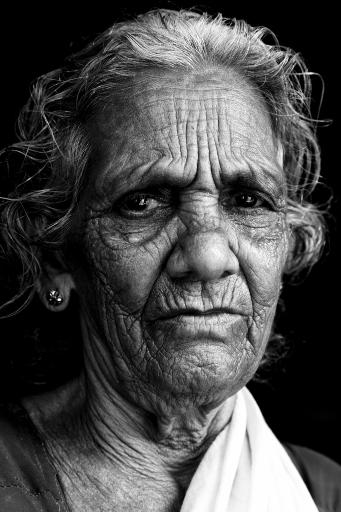left_eye: (225, 187, 274, 217)
left_lip_corner: (234, 307, 248, 327)
right_eye: (113, 186, 171, 219)
right_lip_corner: (155, 306, 183, 330)
